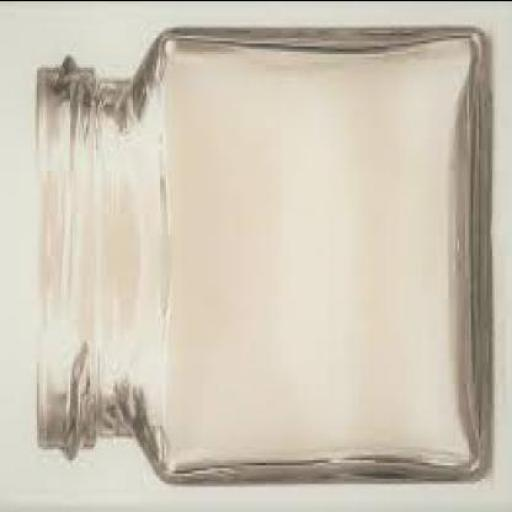glass: (36, 21, 488, 480)
